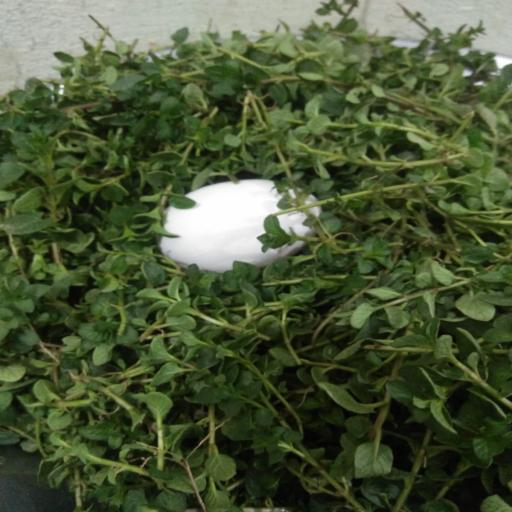telur: (154, 173, 332, 275)
